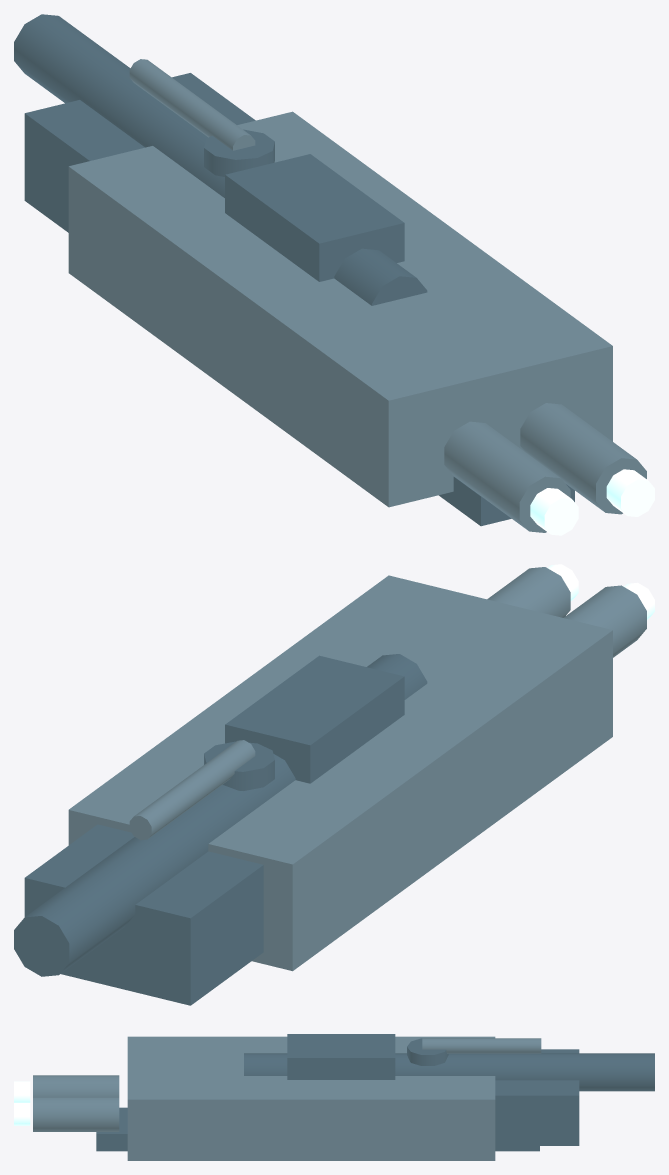
The model's file is artillery_ship.glb.
3 views of the same model, one above another, from view 1: azimuth 30°, elevation 25°; view 2: azimuth 150°, elevation 25°; view 3: azimuth 270°, elevation 25° (orthographic). The views are drawn at different scales.
Visible parts, largest first — view 1: MainHull, Railgun, Bridge, ForeHull, Engine0, Engine1, TurretBarrel0, Turret0, EngineGlow0, EngineGlow1, Keel; view 2: MainHull, ForeHull, Railgun, Bridge, TurretBarrel0, Engine0, Engine1, Turret0; view 3: MainHull, Railgun, ForeHull, Bridge, Engine1, Engine0, TurretBarrel0, Keel, Turret0, EngineGlow1, EngineGlow0.
Boxes of the visible parts, x1=… form: MainHull: x1=68, y1=111, x2=612, y2=507; Railgun: x1=14, y1=14, x2=427, y2=305; Bridge: x1=225, y1=154, x2=404, y2=281; ForeHull: x1=24, y1=73, x2=255, y2=232; Engine0: x1=444, y1=421, x2=570, y2=532; Engine1: x1=520, y1=403, x2=646, y2=514; TurretBarrel0: x1=129, y1=59, x2=255, y2=150; Turret0: x1=204, y1=129, x2=274, y2=176; EngineGlow0: x1=530, y1=488, x2=578, y2=535; EngineGlow1: x1=606, y1=469, x2=654, y2=516; Keel: x1=439, y1=476, x2=574, y2=526; MainHull: x1=68, y1=575, x2=612, y2=971; ForeHull: x1=24, y1=824, x2=263, y2=1005; Railgun: x1=14, y1=654, x2=427, y2=976; Bridge: x1=225, y1=655, x2=404, y2=783; TurretBarrel0: x1=129, y1=740, x2=255, y2=840; Engine0: x1=563, y1=585, x2=646, y2=657; Engine1: x1=487, y1=567, x2=570, y2=617; Turret0: x1=204, y1=741, x2=274, y2=790; MainHull: x1=127, y1=1036, x2=495, y2=1160; Railgun: x1=244, y1=1053, x2=654, y2=1091; ForeHull: x1=495, y1=1049, x2=579, y2=1145; Bridge: x1=287, y1=1034, x2=395, y2=1079; Engine1: x1=33, y1=1097, x2=119, y2=1131; Engine0: x1=33, y1=1075, x2=119, y2=1096; TurretBarrel0: x1=422, y1=1038, x2=541, y2=1053; Keel: x1=96, y1=1107, x2=539, y2=1151; Turret0: x1=407, y1=1038, x2=448, y2=1065; EngineGlow1: x1=14, y1=1102, x2=30, y2=1125; EngineGlow0: x1=14, y1=1081, x2=30, y2=1102.
Size of the model in its own units: 2.2 by 1.61 by 9.48.
